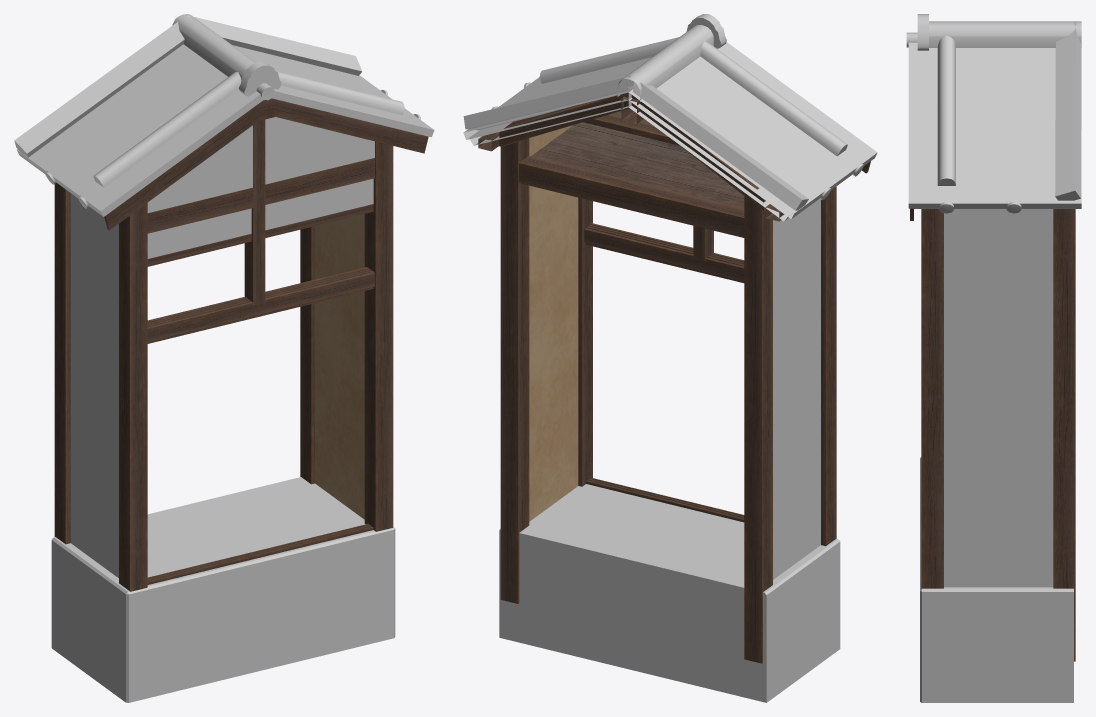
Rendered from kawara_entrance_1tb.fbx.
3 views of the same model, side by side, from view 1: azimuth 30°, elevation 25°; view 2: azimuth 150°, elevation 25°; view 3: azimuth 270°, elevation 25° (orthographic). The views are drawn at different scales.
Parts seen in each view (by area): view 1: kawara_entrance_1tb; view 2: kawara_entrance_1tb; view 3: kawara_entrance_1tb.
Boxes of the visible parts, <box> form: kawara_entrance_1tb: <box>14,14,434,702</box>; kawara_entrance_1tb: <box>463,14,877,702</box>; kawara_entrance_1tb: <box>906,14,1081,702</box>.
Size of the model in its own units: 329 by 556 by 142.
